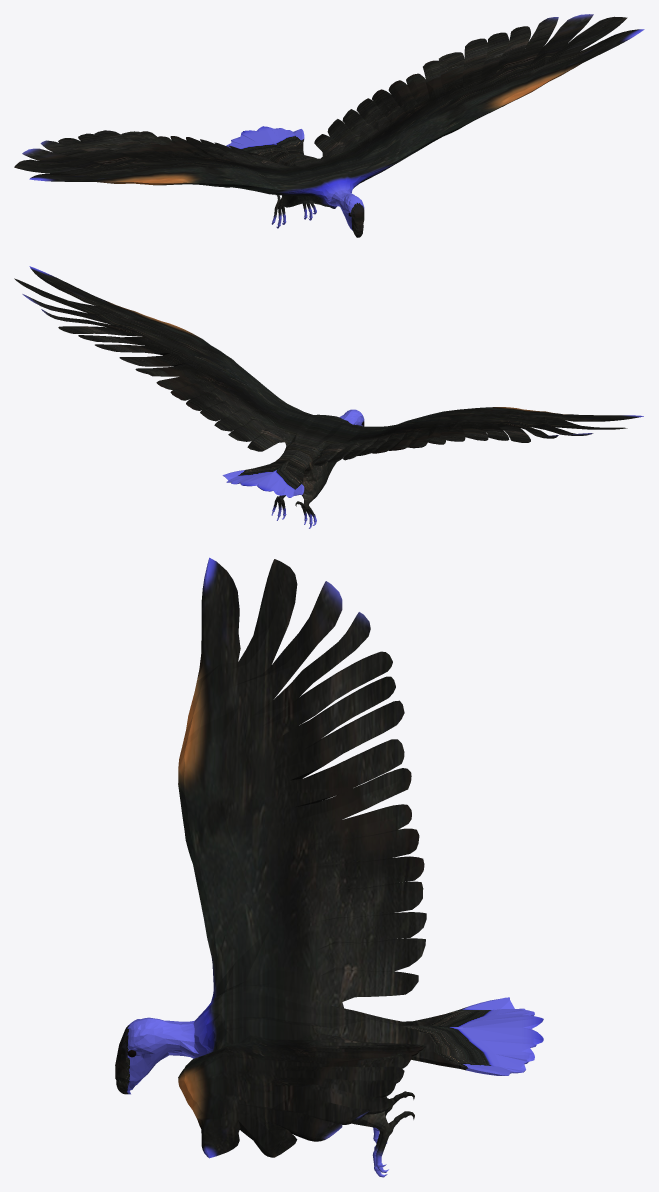
The model's file is condor.obj.
The picture shows the model from 3 angles, top to bottom: view 1: azimuth 30°, elevation 25°; view 2: azimuth 150°, elevation 25°; view 3: azimuth 270°, elevation 25°; orthographic projection. The views are drawn at different scales.
Size of the model in its own units: 1.33 by 0.3129 by 0.3999.
2 materials, 1 textured.
